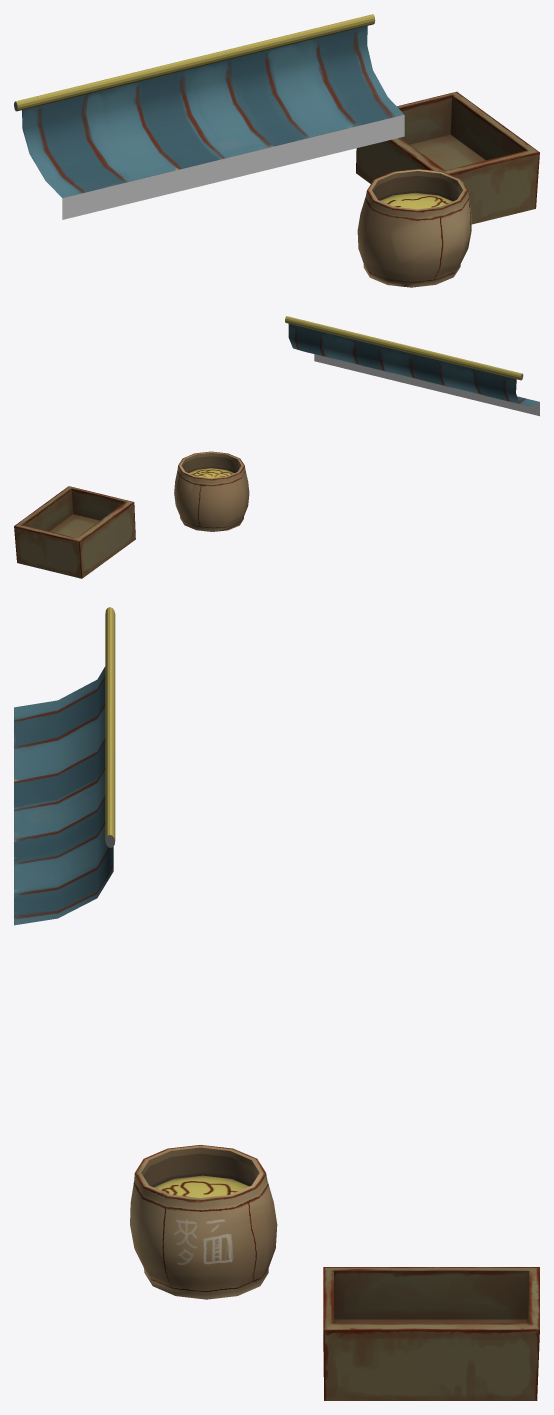
The model's file is curtain and trim.obj.
The picture shows the model from 3 angles, top to bottom: view 1: azimuth 30°, elevation 25°; view 2: azimuth 150°, elevation 25°; view 3: azimuth 270°, elevation 25°; orthographic projection. The views are drawn at different scales.
Parts seen in each view (by area): view 1: polySurface1591 polySurface1454 polySurface1255 polySurface1593, polySurface1454 polySurface1255 polySurface1590, polySurface1592 polySurface1591 polySurface1454 polySurface1255; view 2: polySurface1591 polySurface1454 polySurface1255 polySurface1593, polySurface1592 polySurface1591 polySurface1454 polySurface1255, polySurface1454 polySurface1255 polySurface1590; view 3: polySurface1591 polySurface1454 polySurface1255 polySurface1593, polySurface1592 polySurface1591 polySurface1454 polySurface1255.
Boxes of the visible parts, bbox=[...] form: polySurface1591 polySurface1454 polySurface1255 polySurface1593: bbox=[22, 26, 539, 287]; polySurface1454 polySurface1255 polySurface1590: bbox=[62, 115, 404, 219]; polySurface1592 polySurface1591 polySurface1454 polySurface1255: bbox=[14, 14, 375, 111]; polySurface1591 polySurface1454 polySurface1255 polySurface1593: bbox=[14, 324, 539, 578]; polySurface1592 polySurface1591 polySurface1454 polySurface1255: bbox=[285, 316, 523, 380]; polySurface1454 polySurface1255 polySurface1590: bbox=[314, 354, 539, 416]; polySurface1591 polySurface1454 polySurface1255 polySurface1593: bbox=[14, 666, 539, 1400]; polySurface1592 polySurface1591 polySurface1454 polySurface1255: bbox=[105, 607, 115, 847].
Bounding box in the file's own units: 11.91 × 5.9 × 6.86.
